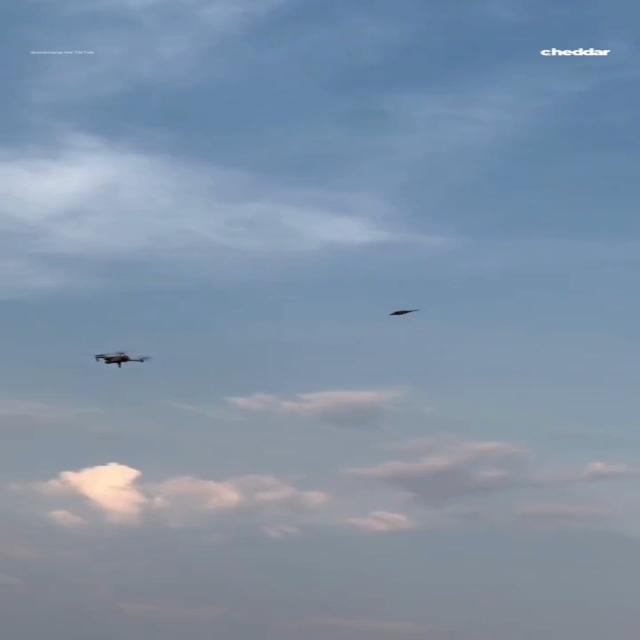bird: (388, 308, 420, 316)
drone: (94, 351, 150, 368)
